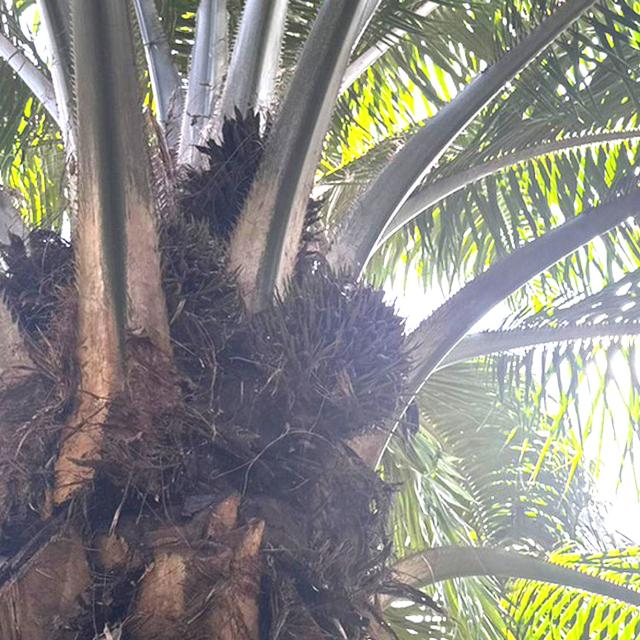ripe: (234, 246, 425, 450)
